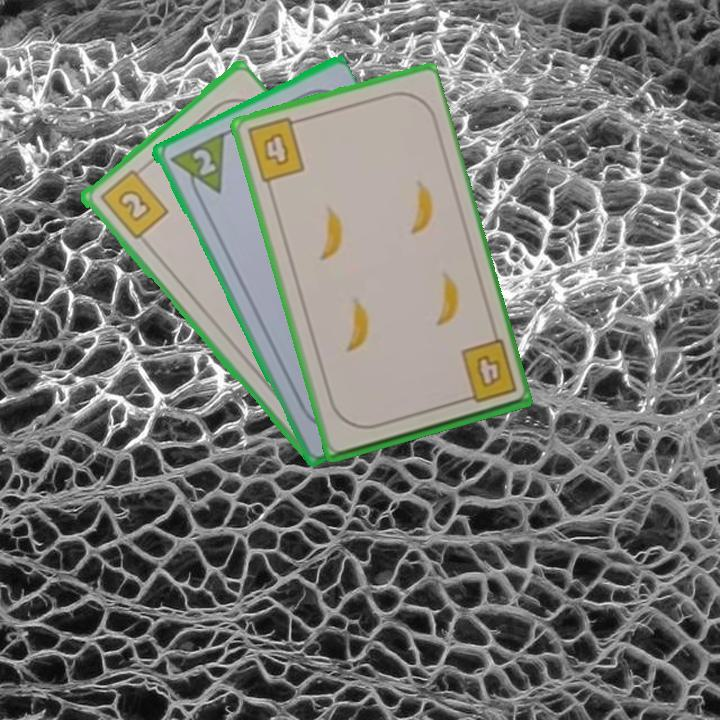2b: (96, 162, 171, 242)
2p: (187, 144, 219, 179)
4b: (454, 336, 519, 406), (243, 114, 307, 185)
